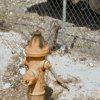Hydrant: (16, 25, 65, 100)
